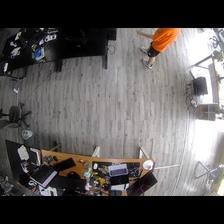fall: (134, 27, 182, 69)
